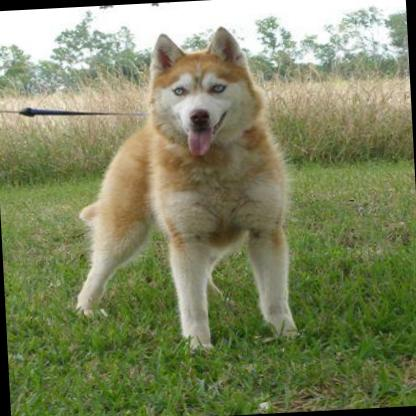Eskimo_dog: (58, 21, 298, 355)
